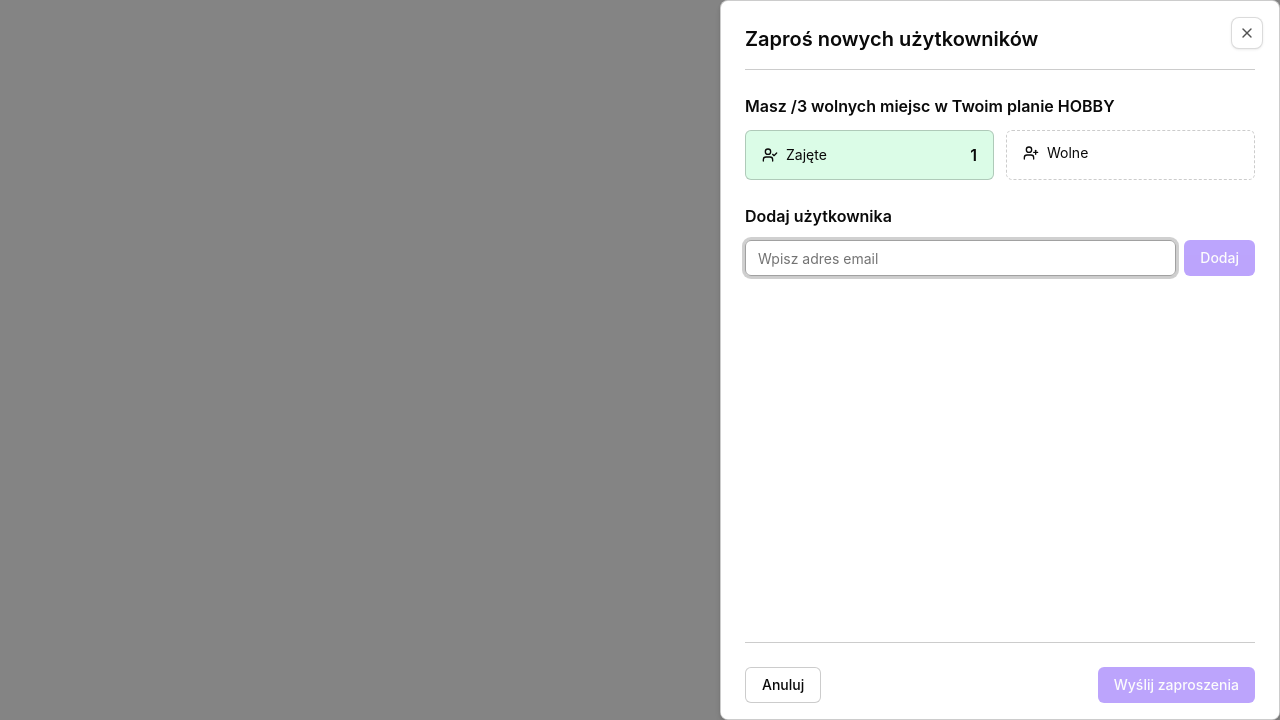
Test: InviteUsersDialog › Adding Invitations › should add email to queue when add button clicked
In the field with placeholder "Wpisz adres email": (961, 258) [745,240,1176,276], type "test@example.com"
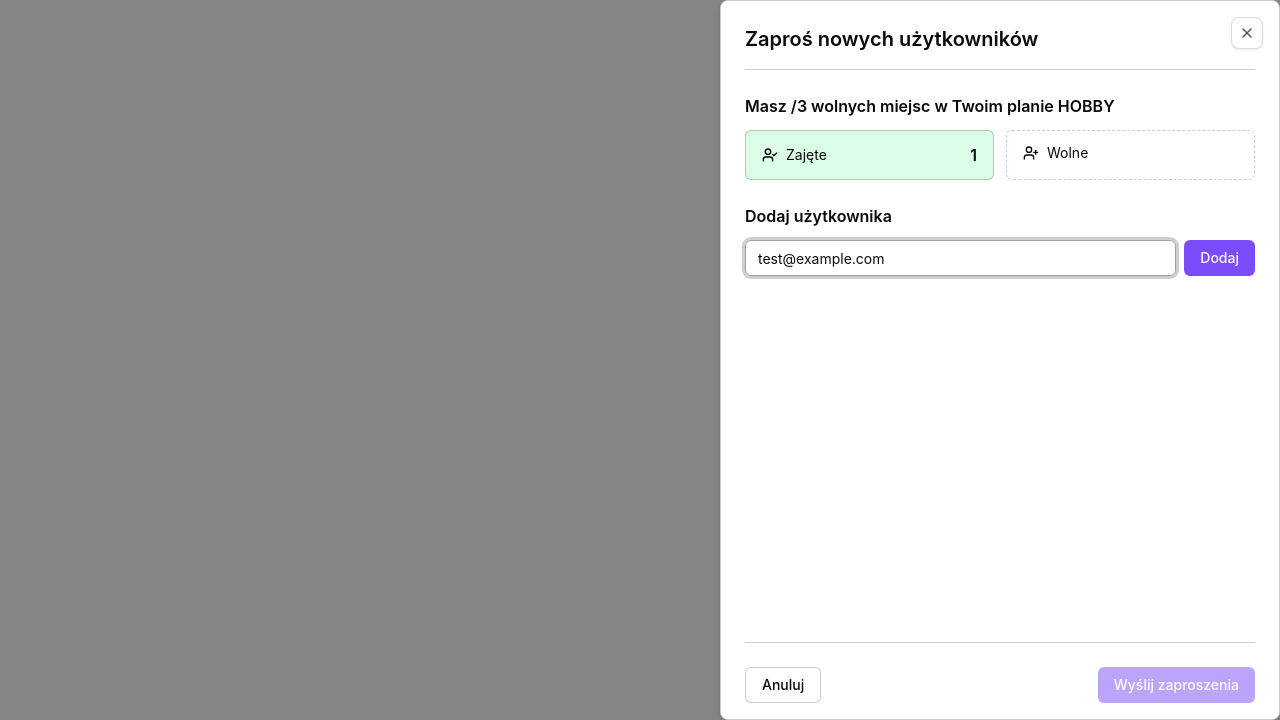
Click the button "Dodaj": (1220, 258) [1184,240,1255,276]
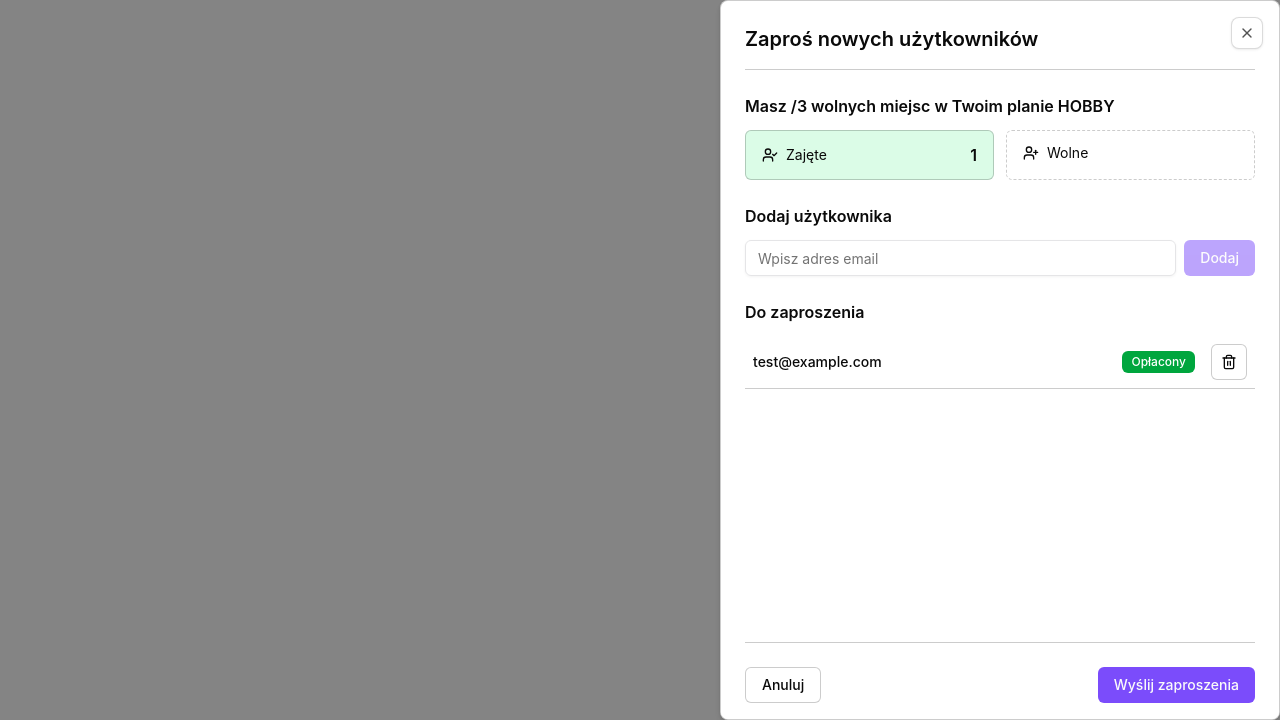
Check: the text "Do zaproszenia" is shown, box [745,302,864,322]
Check: the text "test@example.com" is shown, box [753,353,882,370]
